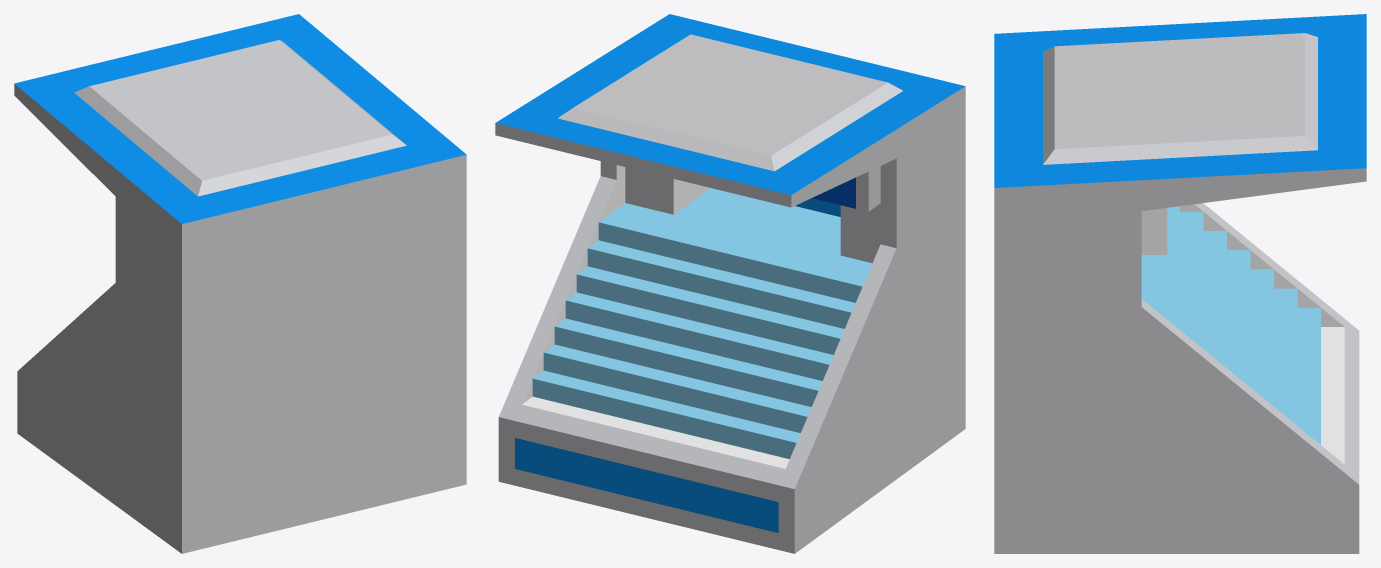
The model's file is grandStandCovered_2.fbx.
The picture shows the model from 3 angles, left to right: view 1: azimuth 30°, elevation 25°; view 2: azimuth 150°, elevation 25°; view 3: azimuth 270°, elevation 25°; orthographic projection. The views are drawn at different scales.
Visible parts, largest first — view 1: grandStandCovered_2; view 2: grandStandCovered_2; view 3: grandStandCovered_2.
Part boxes in pixels (box(x1,y1,x2,y2)): grandStandCovered_2: box(14, 14, 466, 553); grandStandCovered_2: box(495, 14, 965, 553); grandStandCovered_2: box(994, 14, 1366, 553).
Bounding box in the file's own units: 1000 × 1020 × 1186.
